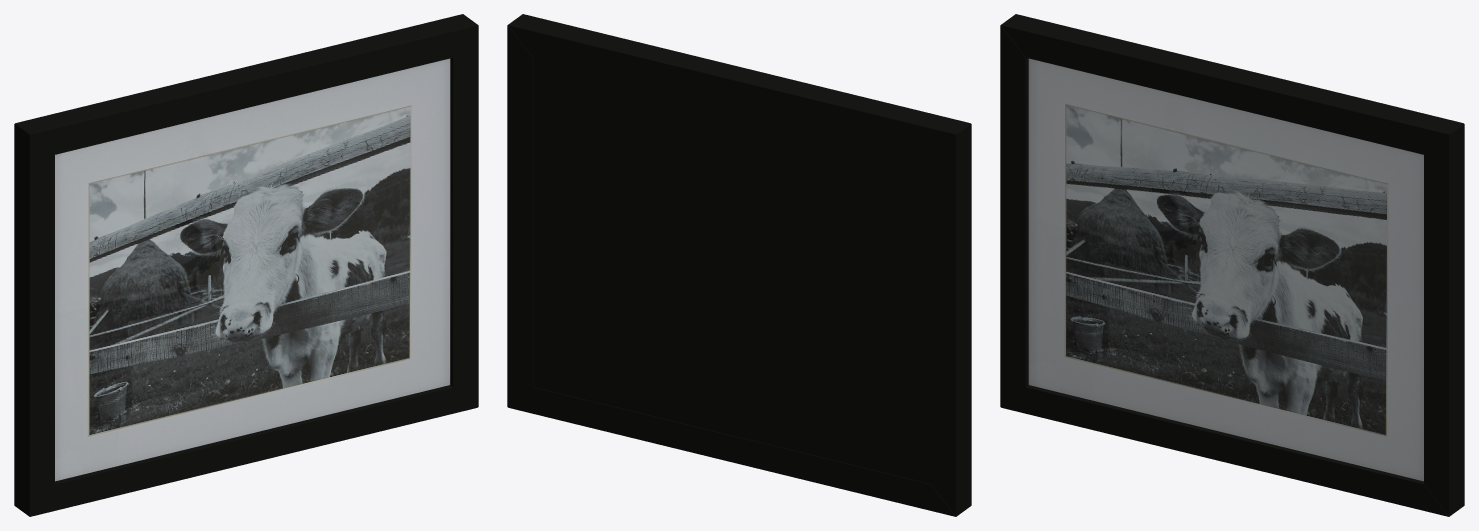
The model's file is picture_frame_B075YLXSLP.glb.
The picture shows the model from 3 angles, left to right: view 1: azimuth 30°, elevation 25°; view 2: azimuth 150°, elevation 25°; view 3: azimuth 330°, elevation 25°; orthographic projection.
Visible parts, largest first — view 1: RootNode; view 2: RootNode; view 3: RootNode.
Boxes of the visible parts, x1,y1,x2,y2 form: RootNode: [14, 14, 478, 516]; RootNode: [507, 14, 971, 516]; RootNode: [1000, 14, 1464, 516].
Bounding box in the file's own units: 0.404 × 0.329 × 0.0237.
1 material, 1 textured.
